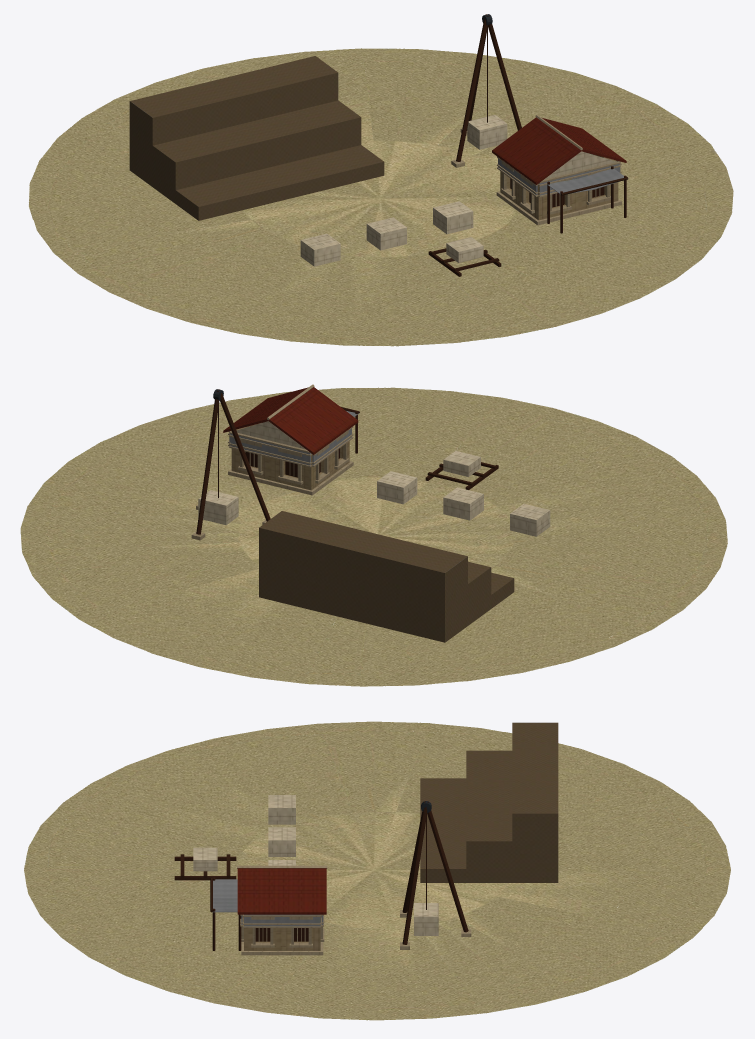
File: quarry-bronze-bf903739.glb
3 renders of one model, top to bottom at view 1: azimuth 30°, elevation 25°; view 2: azimuth 150°, elevation 25°; view 3: azimuth 270°, elevation 25°, orthographic.
Visible parts, largest first — view 1: LOD0; view 2: LOD0; view 3: LOD0.
Boxes of the visible parts, x1=… form: LOD0: x1=29, y1=14, x2=733, y2=346; LOD0: x1=20, y1=384, x2=727, y2=686; LOD0: x1=24, y1=721, x2=730, y2=1020.
Size of what is drawn, in the model's own units: 4.74 by 0.9555 by 4.74.
3 materials, 3 textured.
